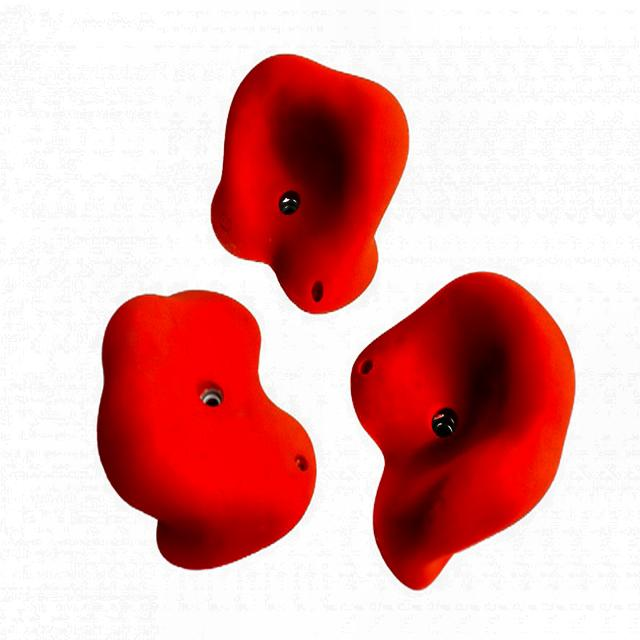Hold: (359, 274, 576, 590), (97, 289, 316, 571), (210, 56, 414, 313)
